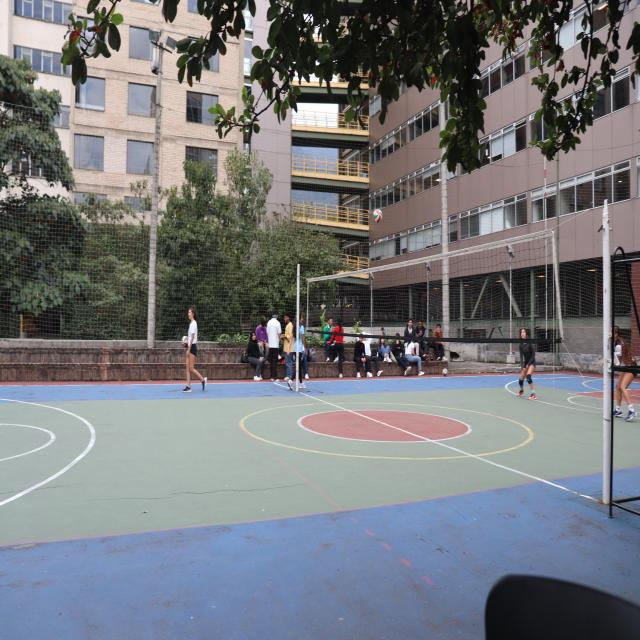volleyball: (372, 208, 382, 224), (181, 336, 188, 346), (442, 368, 448, 376)
